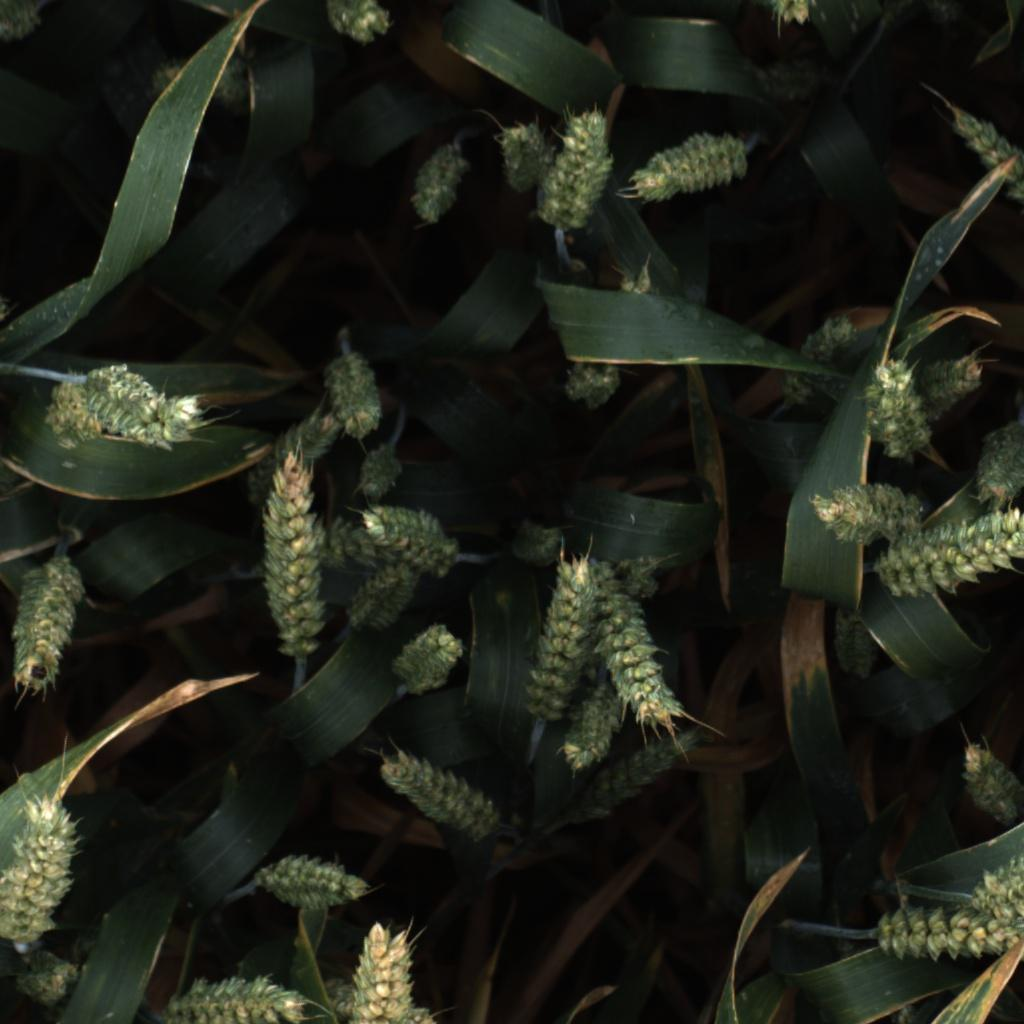0-0: (241, 465, 430, 583), (262, 452, 338, 669), (515, 553, 599, 724), (598, 564, 680, 733), (370, 747, 503, 844), (879, 511, 1024, 599), (0, 789, 83, 941), (2, 552, 87, 699), (858, 891, 1021, 964), (86, 366, 205, 455), (533, 107, 617, 223), (628, 128, 746, 207), (585, 737, 688, 824), (945, 98, 1024, 211), (139, 45, 257, 118), (343, 921, 425, 1024), (160, 968, 313, 1021), (805, 469, 914, 541), (360, 503, 463, 578), (858, 354, 929, 459), (780, 312, 857, 408), (254, 850, 369, 913), (243, 407, 345, 474), (949, 733, 1024, 821), (331, 971, 452, 1024), (319, 347, 391, 434), (388, 618, 467, 695), (557, 688, 627, 772), (408, 144, 470, 229), (920, 347, 987, 421), (37, 378, 105, 450), (344, 565, 422, 627), (817, 602, 879, 678), (492, 111, 550, 192), (17, 943, 81, 1016), (974, 419, 1024, 512), (504, 513, 575, 576), (750, 53, 826, 108), (558, 356, 626, 416), (319, 0, 400, 49), (614, 546, 684, 602), (350, 445, 406, 505), (981, 838, 1024, 913), (763, 0, 826, 35), (614, 257, 659, 306), (0, 2, 42, 41), (927, 0, 959, 30)
